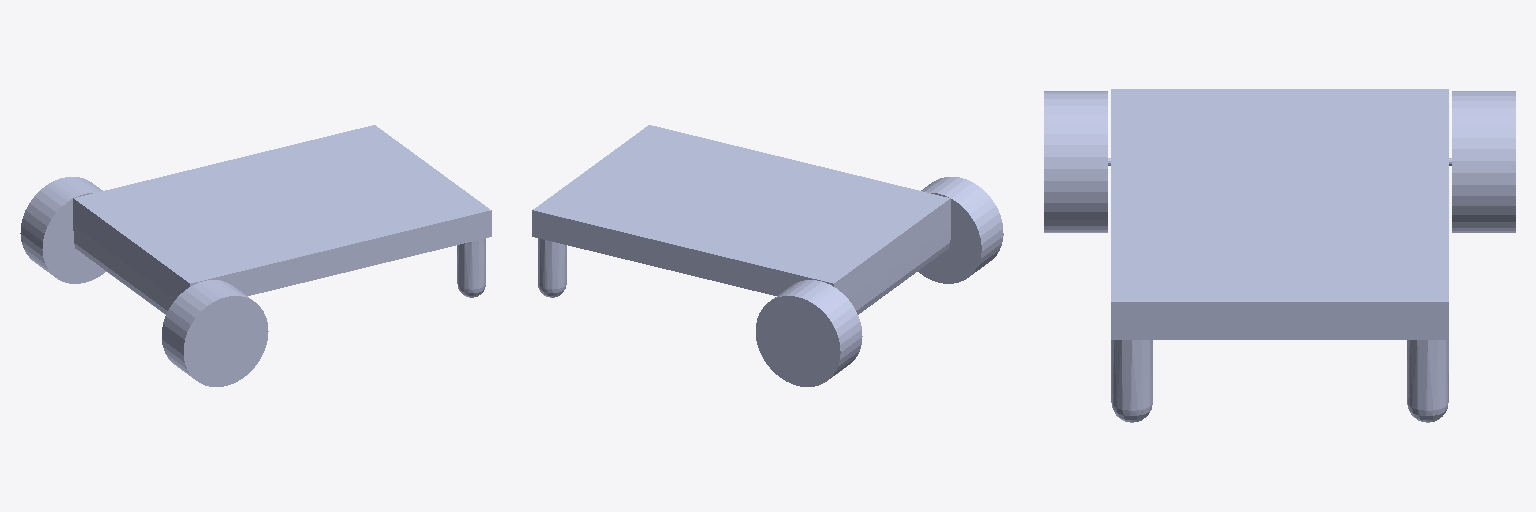
URDF robot description (diffdrivebot):
<?xml version="1.0" encoding="utf-8"?>
<!-- This URDF was automatically created by SolidWorks to URDF Exporter! Originally created by [author] ([email redacted]) 
     Commit Version: 1.6.0-4-g7f85cfe  Build Version: 1.6.7995.38578
     For more information, please see http://wiki.ros.org/sw_urdf_exporter -->
<robot
  name="diffdrivebot">
  <!-- Baselink -->
  <link
    name="base_link">
    <inertial>
      <origin
        xyz="-0.00606746293762698 -1.17092309653188E-17 -0.0159067470445845"
        rpy="0 0 0" />
      <mass
        value="1.72841411222593" />
      <inertia
        ixx="0.00638027154313441"
        ixy="-8.64628670096283E-18"
        ixz="-0.000131521619785547"
        iyy="0.0153647157213499"
        iyz="-8.34109134255007E-19"
        izz="0.0212209304244771" />
    </inertial>
    <visual>
      <origin
        xyz="0 0 0"
        rpy="0 0 0" />
      <geometry>
        <mesh
          filename="package://diffdrivebot/meshes/base_link.STL" />
      </geometry>
      <material
        name="">
        <color
          rgba="0.792156862745098 0.819607843137255 0.933333333333333 1" />
      </material>
    </visual>
    <collision>
      <origin
        xyz="0 0 0"
        rpy="0 0 0" />
      <geometry>
        <mesh
          filename="package://diffdrivebot/meshes/base_link.STL" />
      </geometry>
    </collision>
  </link>

  <!-- Left Wheel Link -->

  <link
    name="left_link">
    <inertial>
      <origin
        xyz="0 -0.0190218340611354 0"
        rpy="0 0 0" />
      <mass
        value="0.215827415301619" />
      <inertia
        ixx="0.000123433445533082"
        ixy="7.83452221612012E-22"
        ixz="2.73872631878343E-21"
        iyy="0.00019474241985751"
        iyz="-2.20269327702413E-21"
        izz="0.000123433445533082" />
    </inertial>
    <visual>
      <origin
        xyz="0 0 0"
        rpy="0 0 0" />
      <geometry>
        <mesh
          filename="package://diffdrivebot/meshes/left_link.STL" />
      </geometry>
      <material
        name="">
        <color
          rgba="0.792156862745098 0.819607843137255 0.933333333333333 1" />
      </material>
    </visual>
    <collision>
      <origin
        xyz="0 0 0"
        rpy="0 0 0" />
      <geometry>
        <mesh
          filename="package://diffdrivebot/meshes/left_link.STL" />
      </geometry>
    </collision>
  </link>

  <!-- Left Wheel Joint -->

  <joint
    name="left_wheel"
    type="continuous">
    <origin
      xyz="-0.1378 0.141 -0.042"
      rpy="0 0 0" />
    <parent
      link="base_link" />
    <child
      link="left_link" />
    <axis
      xyz="0 1 0" />
    <limit
      effort="1"
      velocity="100" />
  </joint>

  <!-- Right Wheel Link -->

  <link
    name="right_link">
    <inertial>
      <origin
        xyz="2.77555756156289E-17 0.0190218340611354 6.93889390390723E-18"
        rpy="0 0 0" />
      <mass
        value="0.215827415301619" />
      <inertia
        ixx="0.000123433445533082"
        ixy="1.05036450747826E-19"
        ixz="8.11218086604348E-22"
        iyy="0.00019474241985751"
        iyz="1.30921085554886E-23"
        izz="0.000123433445533082" />
    </inertial>
    <visual>
      <origin
        xyz="0 0 0"
        rpy="0 0 0" />
      <geometry>
        <mesh
          filename="package://diffdrivebot/meshes/right_link.STL" />
      </geometry>
      <material
        name="">
        <color
          rgba="0.792156862745098 0.819607843137255 0.933333333333333 1" />
      </material>
    </visual>
    <collision>
      <origin
        xyz="0 0 0"
        rpy="0 0 0" />
      <geometry>
        <mesh
          filename="package://diffdrivebot/meshes/right_link.STL" />
      </geometry>
    </collision>
  </link>
  
  <!-- Right Wheel Joint -->

  <joint
    name="right_wheel"
    type="continuous">
    <origin
      xyz="-0.1378 -0.141 -0.042"
      rpy="0 0 0" />
    <parent
      link="base_link" />
    <child
      link="right_link" />
    <axis
      xyz="0 1 0" />
    <limit
      effort="1"
      velocity="100" />
  </joint>

  <gazebo>
        <plugin name="differential_drive_controller" filename="libgazebo_ros_diff_drive.so">
            <rosDebugLevel>Debug</rosDebugLevel>
            <publishWheelTF>false</publishWheelTF>
            <robotNamespace>/</robotNamespace>
            <publishTf>1</publishTf>
            <publishWheelJointState>false</publishWheelJointState>
            <alwaysOn>true</alwaysOn>
            <updateRate>100.0</updateRate>
            <leftJoint>left_wheel</leftJoint>
            <rightJoint>right_wheel</rightJoint>
            <wheelSeparation>0.341</wheelSeparation>
            <wheelDiameter>.17</wheelDiameter>
            <broadcastTF>1</broadcastTF>
            <wheelTorque>200</wheelTorque>
            <wheelAcceleration>10</wheelAcceleration>
            <commandTopic>cmd_vel</commandTopic>
            <odometryFrame>odom</odometryFrame>
            <odometryTopic>odom</odometryTopic>
            <pose_covariance_diagonal>[1.0, 1.0, 0.0, 0.0, 0.0, 1.0]</pose_covariance_diagonal>
            <twist_covariance_diagonal>[0.01, 0.0, 0.0, 0.0, 0.0, 0.1]</twist_covariance_diagonal>
            <gaussianNoise>0.05</gaussianNoise>
            <robotBaseFrame>base_link</robotBaseFrame>
            <legacyMode>false</legacyMode>
            <publishOdomTF>true</publishOdomTF>
            <odometrySource>world</odometrySource>
        </plugin>
    </gazebo>


</robot>

--- What the picture shows (computed from the rendered views, not written in the file) ---
The picture shows the robot from 3 angles, left to right: view 1: azimuth 30°, elevation 25°; view 2: azimuth 150°, elevation 25°; view 3: azimuth 270°, elevation 25°; orthographic projection.
Model diffdrivebot with 3 links and 2 joints (2 continuous), rooted at base_link, posed all joints at 0.
Links seen in each view (by area): view 1: base_link, right_link, left_link; view 2: base_link, left_link, right_link; view 3: base_link, left_link, right_link.
Boxes of the visible links, box(x1,y1,x2,y2) form: base_link: box(73, 125, 491, 314); right_link: box(162, 280, 268, 386); left_link: box(20, 177, 105, 283); base_link: box(532, 125, 950, 314); left_link: box(756, 280, 862, 386); right_link: box(918, 177, 1003, 283); base_link: box(1111, 89, 1448, 422); left_link: box(1449, 91, 1515, 232); right_link: box(1044, 91, 1110, 232).
Bounding box of the posed robot: 0.3308 × 0.282 × 0.0849 m (x, y, z).
Meshes: 3 distinct files referenced, 3 mesh visuals loaded (3 binary STL).
